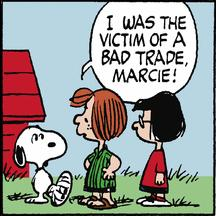snoopy: (10, 122, 72, 208)
